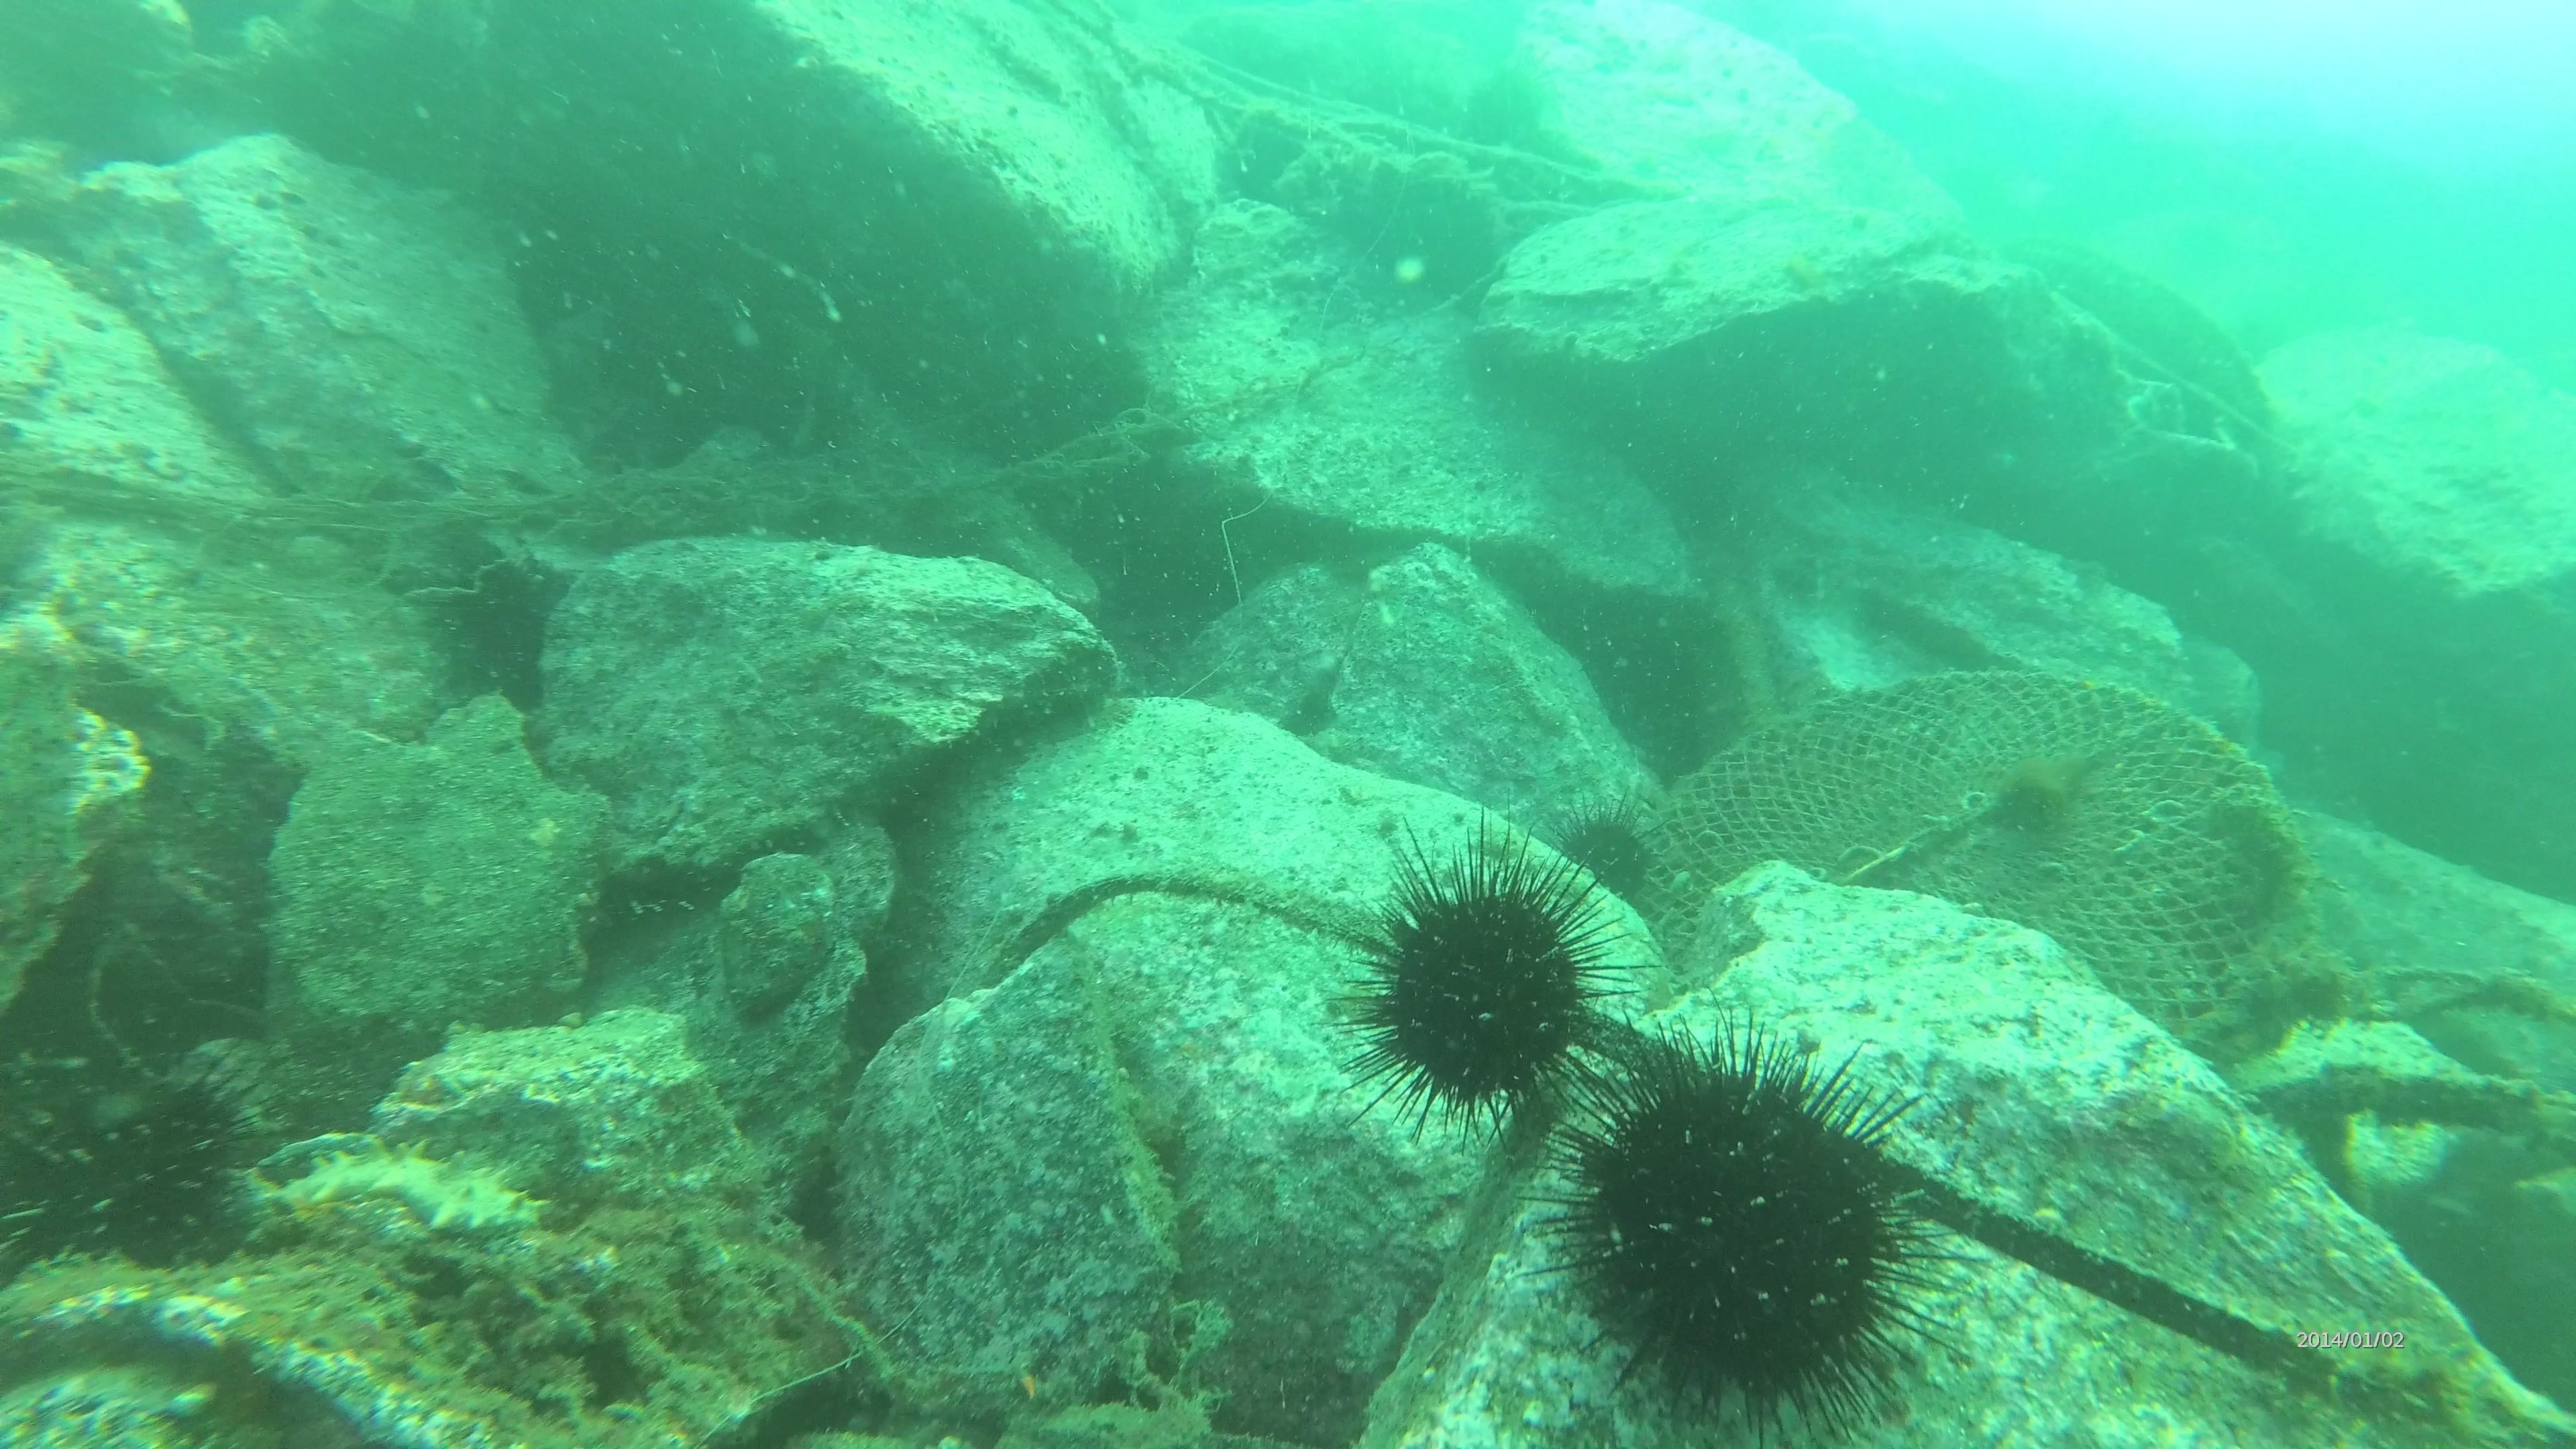echinus: (1532, 1021, 1948, 1433), (1336, 833, 1638, 1134), (5, 1051, 265, 1281), (1548, 801, 1668, 918)
holothurian: (248, 1125, 554, 1253)
